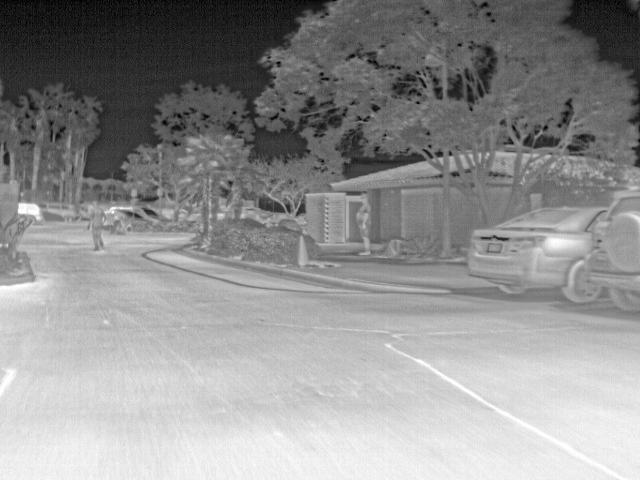car: (464, 204, 596, 305), (586, 186, 639, 311), (105, 205, 135, 231), (43, 204, 80, 222), (17, 204, 44, 224), (137, 206, 166, 222)
person: (355, 192, 372, 256), (86, 199, 105, 251)
